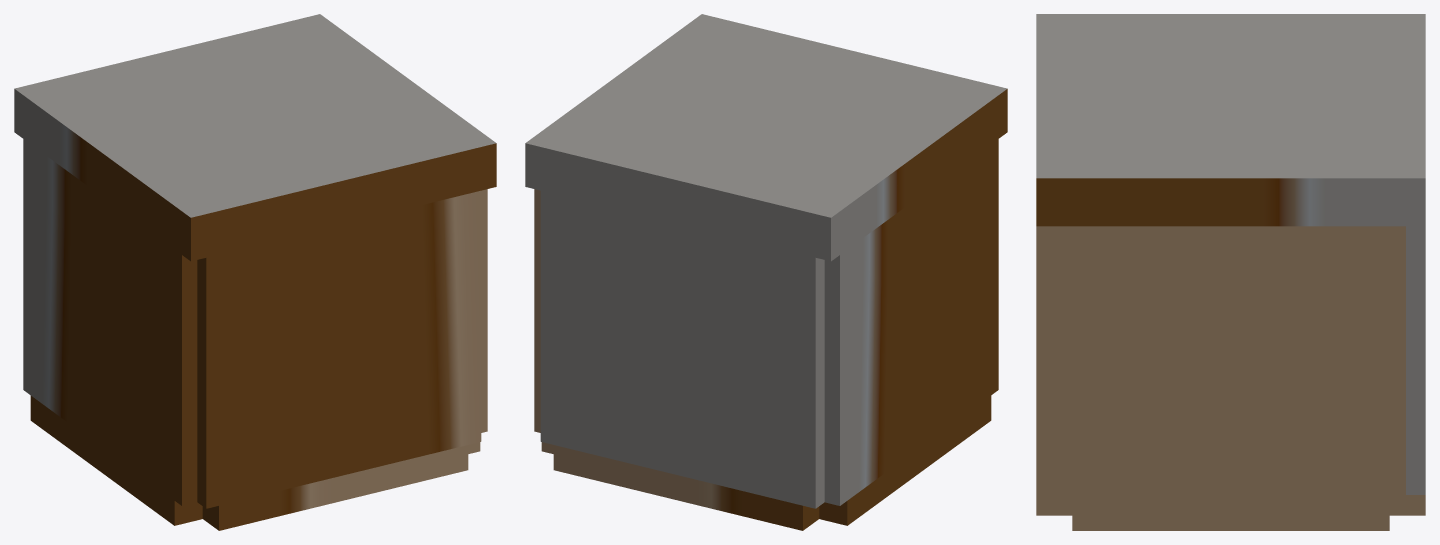
The model's file is SM_Bench_Corner_Central.fbx.
3 renders of one model, left to right at view 1: azimuth 30°, elevation 25°; view 2: azimuth 150°, elevation 25°; view 3: azimuth 270°, elevation 25°, orthographic. The views are drawn at different scales.
Visible parts, largest first — view 1: SM_Bench_Corner_Central; view 2: SM_Bench_Corner_Central; view 3: SM_Bench_Corner_Central.
Boxes of the visible parts, <box> form: SM_Bench_Corner_Central: <box>14,14,496,530</box>; SM_Bench_Corner_Central: <box>525,14,1007,530</box>; SM_Bench_Corner_Central: <box>1036,14,1425,530</box>.
Bounding box in the file's own units: 1 × 1 × 1.
